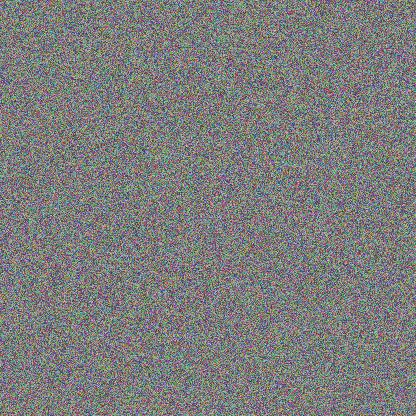empty: (130, 256, 217, 361), (86, 236, 128, 303)
occupied: (207, 139, 292, 245)
